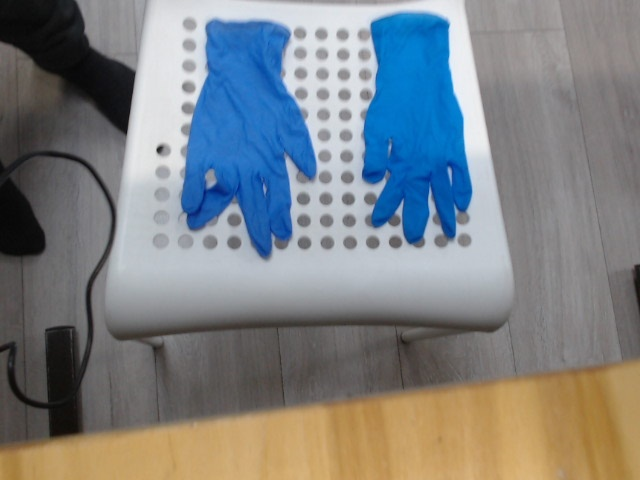medical_glove: (184, 19, 318, 251), (363, 10, 473, 241)
